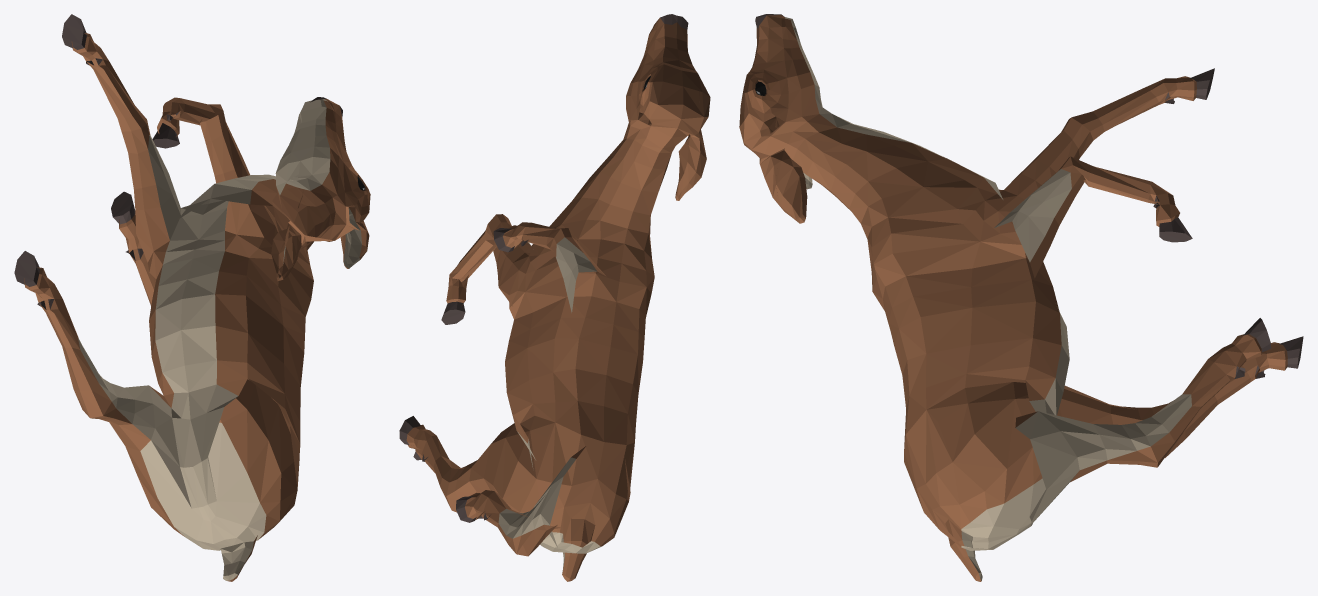
The model's file is deer-gallop-2.glb.
The picture shows the model from 3 angles, left to right: view 1: azimuth 30°, elevation 25°; view 2: azimuth 150°, elevation 25°; view 3: azimuth 270°, elevation 25°; orthographic projection. The views are drawn at different scales.
Bounding box in the file's own units: 0.3727 × 1.53 × 1.39.
